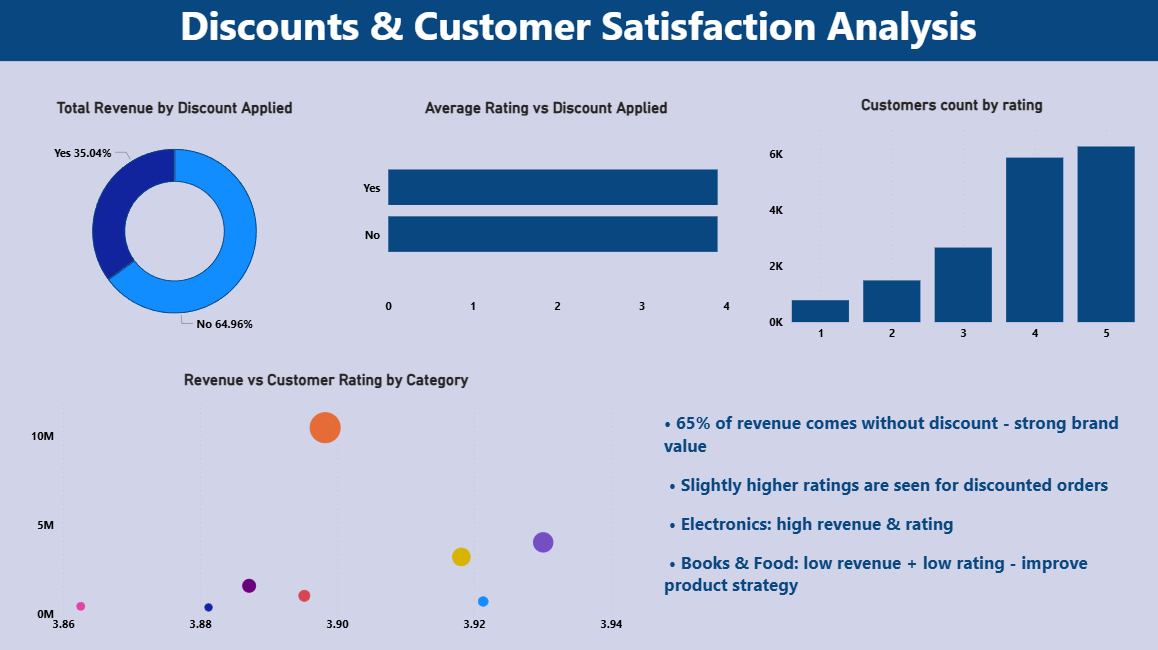

This screenshot's page, from the dashboard's own definition file:
{"tool":"powerbi","page":{"name":"Discount Analysis","canvas":[1280,720],"ordinal":3},"visuals":[{"type":"textbox","box":[0,0,1280.3,74.5],"z":0},{"type":"donutChart","title":"Total Revenue by Discount Applied","fields":{"Category":["ecommerce_cleaned.Discount_Applied"],"Y":["ecommerce_cleaned.Total Revenue"]},"box":[14,115,371.6,272],"z":1000},{"type":"barChart","title":"Average Rating vs Discount Applied","fields":{"Y":["ecommerce_cleaned.Avg Rating"],"Category":["ecommerce_cleaned.Discount_Applied"]},"box":[399.7,115,410.9,245.4],"z":2000},{"type":"scatterChart","title":"Revenue vs Customer Rating by Category","fields":{"X":["ecommerce_cleaned.Avg Rating"],"Y":["ecommerce_cleaned.Total Revenue"],"Series":["ecommerce_cleaned.Product_Category"],"Size":["ecommerce_cleaned.Total Revenue"]},"box":[36.5,412.3,656.3,295.9],"z":3000},{"type":"columnChart","title":"Customers count by rating","fields":{"Y":["CountNonNull(ecommerce_cleaned.Customer_Rating)"],"Category":["ecommerce_cleaned.Customer_Rating"]},"box":[844.2,112.2,409.5,277.7],"z":4000},{"type":"textbox","box":[729.4,451.9,524.4,242.7],"z":5000}]}

Visuals, with their boxes in screenshot pixels (x1, y1, x2, y2), scaled from the page's 1280x720 canvas onto the 1158x650 screenshot:
textbox: <bbox>0, 0, 1157, 67</bbox>
"Total Revenue by Discount Applied" donutChart: <bbox>13, 104, 349, 349</bbox>
"Average Rating vs Discount Applied" barChart: <bbox>362, 104, 733, 325</bbox>
"Revenue vs Customer Rating by Category" scatterChart: <bbox>33, 372, 627, 639</bbox>
"Customers count by rating" columnChart: <bbox>764, 101, 1134, 352</bbox>
textbox: <bbox>660, 408, 1134, 627</bbox>
